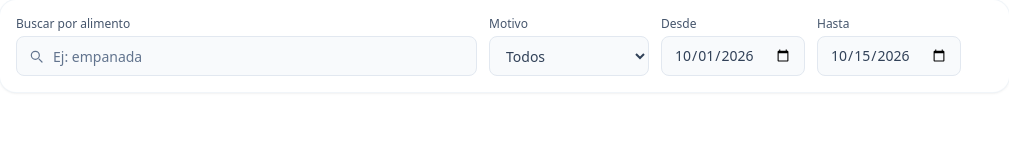
Test: FilterBar › Desde posterior a Hasta no se aplica y avisa
Step 1. Type "2026-10-20" into the date field labelled "Desde" → (733, 56), box [661,36,805,76]
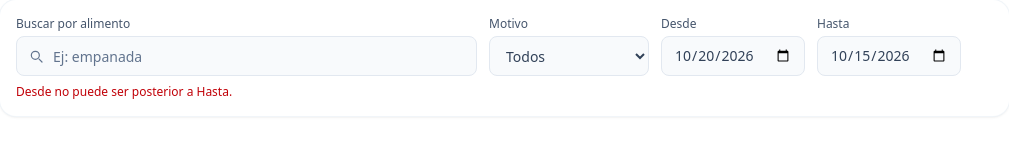
Check: the text "Desde no puede ser posterior a Hasta." is shown, box [16,83,232,100]
